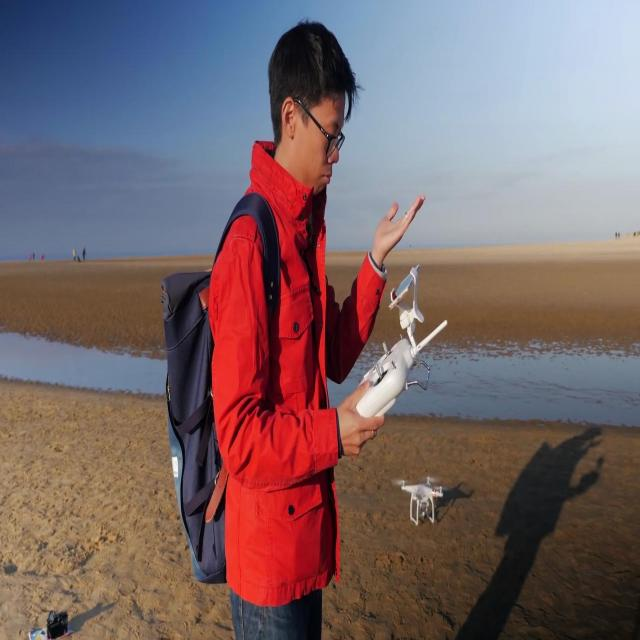drones: (388, 472, 452, 528)
